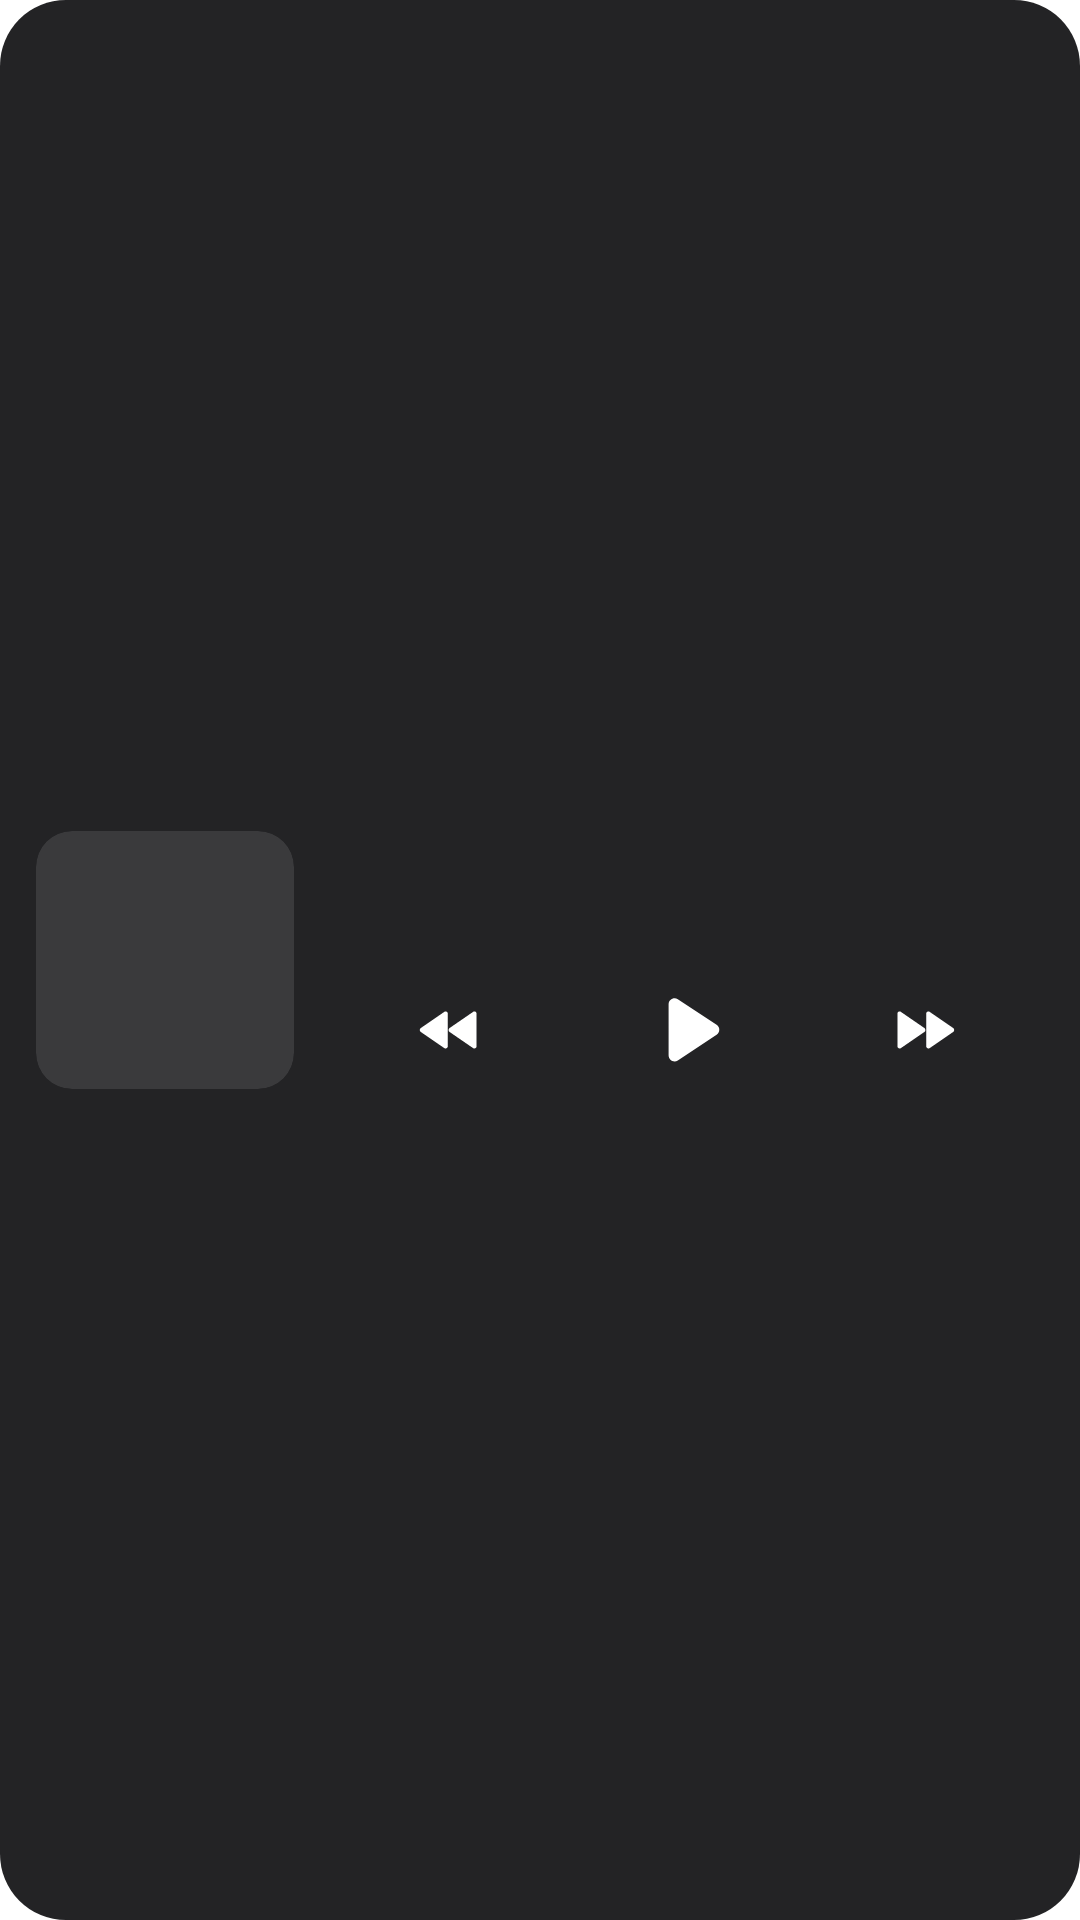

Locate icon controls on the screen. Image size 1080x1920, boxes as (x1=x1, y1=y1, x2=x2, y2=y2).
Next: (x1=897, y1=1011, x2=954, y2=1049)
Play: (x1=668, y1=998, x2=720, y2=1062)
Previous: (x1=419, y1=1011, x2=477, y2=1049)
